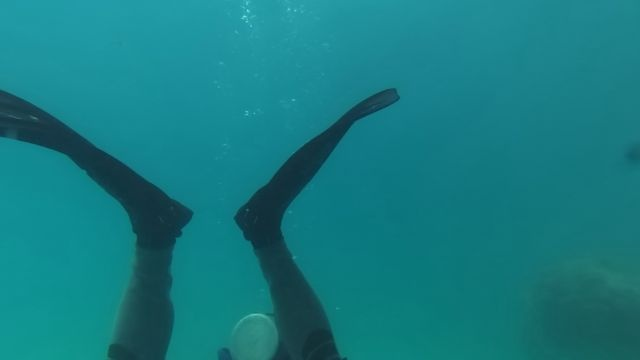Diver: (2, 66, 406, 359)
